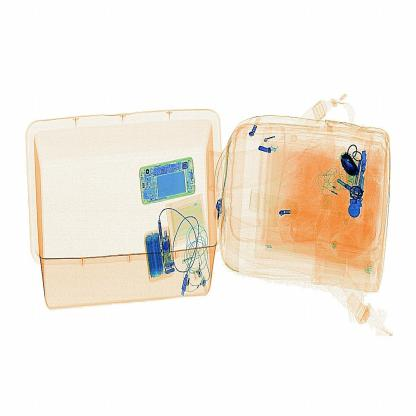scissors: (334, 148, 362, 185)
